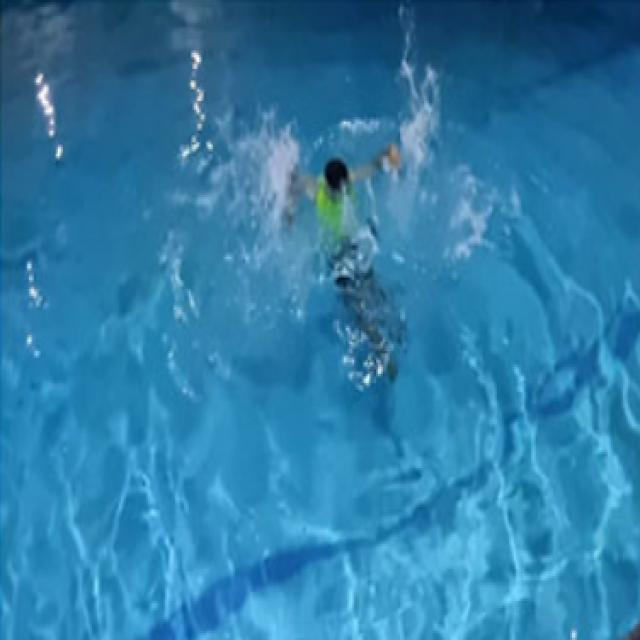Drowning: (276, 146, 407, 362)
